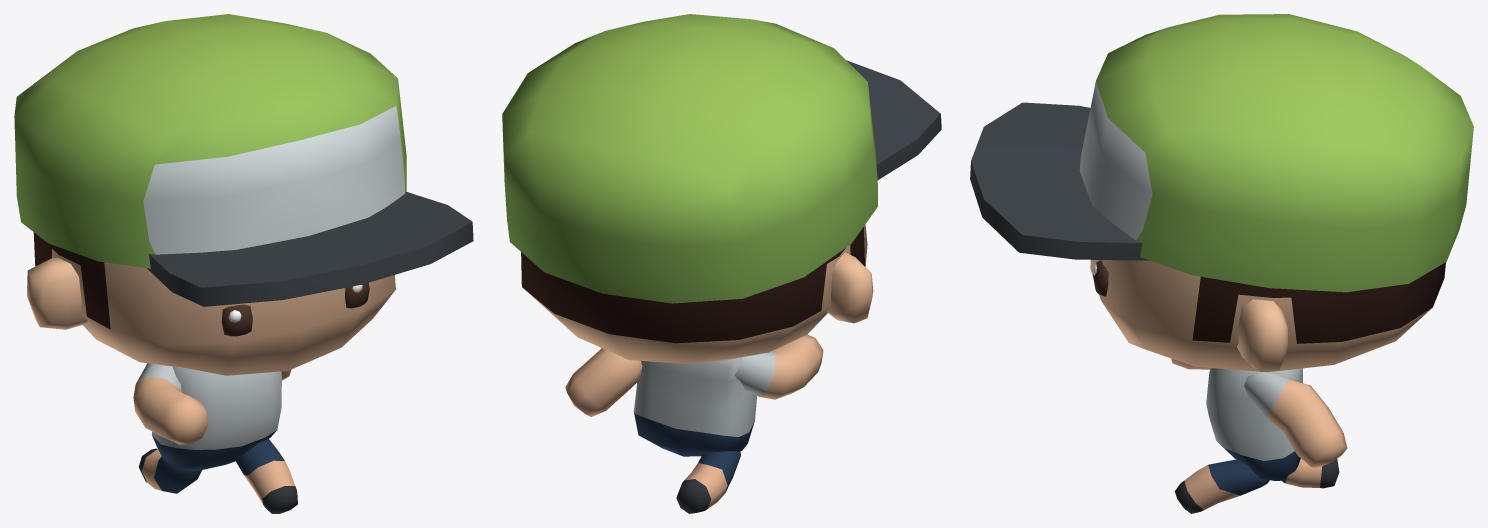
Rendered from run_0019.obj.
3 views of the same model, side by side, from view 1: azimuth 30°, elevation 25°; view 2: azimuth 150°, elevation 25°; view 3: azimuth 270°, elevation 25° (orthographic). The views are drawn at different scales.
Parts seen in each view (by area): view 1: Object_41, Object_42, Object_36, Object_44, Object_38; view 2: Object_41, Object_36, Object_44, Object_42; view 3: Object_41, Object_36, Object_42, Object_44.
Part boxes in pixels (left/top/right/bottom): Object_41: left=14, top=14, right=406, bottom=268; Object_42: left=143, top=106, right=473, bottom=306; Object_36: left=27, top=232, right=395, bottom=375; Object_44: left=133, top=363, right=297, bottom=513; Object_38: left=221, top=283, right=369, bottom=336; Object_41: left=502, top=14, right=877, bottom=303; Object_36: left=521, top=224, right=873, bottom=363; Object_44: left=565, top=334, right=823, bottom=513; Object_42: left=846, top=60, right=941, bottom=179; Object_41: left=1096, top=14, right=1473, bottom=292; Object_36: left=1090, top=260, right=1445, bottom=372; Object_42: left=970, top=81, right=1152, bottom=260; Object_44: left=1171, top=358, right=1347, bottom=513.
Bounding box in the file's own units: 0.9691 × 1.15 × 1.14.
